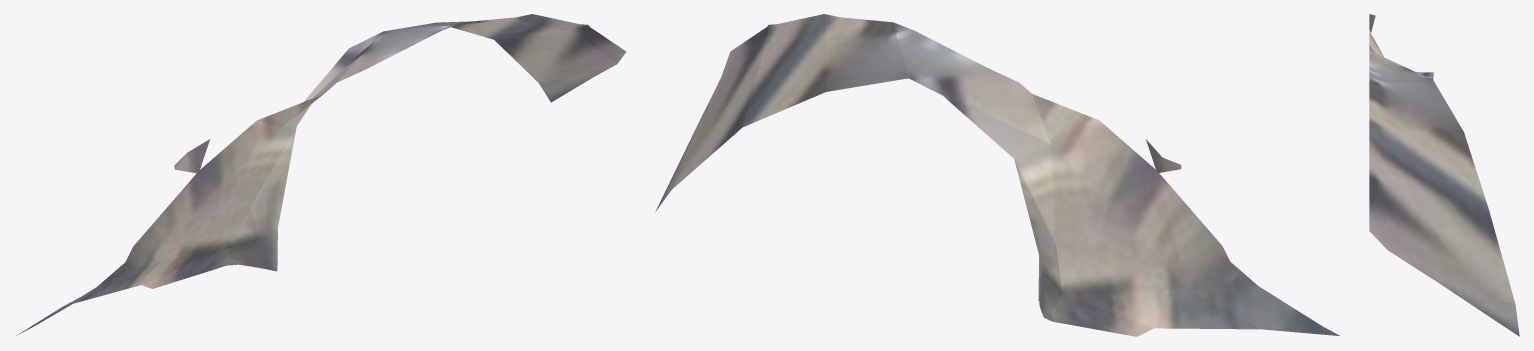
Rendered from Tile_+003_+007_L20_000230.glb.
3 views of the same model, side by side, from view 1: azimuth 30°, elevation 25°; view 2: azimuth 150°, elevation 25°; view 3: azimuth 270°, elevation 25° (orthographic).
Visible parts, largest first — view 1: rtc; view 2: rtc; view 3: rtc.
Part boxes in pixels (x1=…): rtc: x1=16, y1=14, x2=626, y2=335; rtc: x1=655, y1=14, x2=1339, y2=336; rtc: x1=1369, y1=14, x2=1519, y2=336.
Size of the model in its own units: 23.79 by 8.3 by 5.08.
Materials: 1 (1 with a texture image).
